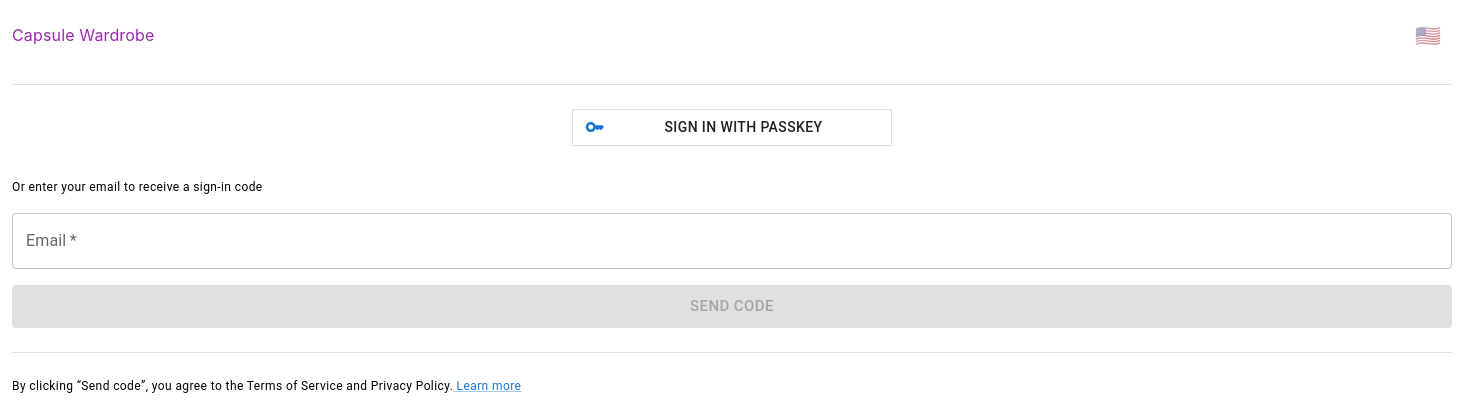
Test: SignInScreen › google script load failure keeps email flow usable
Expected: the button "Send code" is disabled, [12,285,1452,328]
Type "person@example.com" into the field labelled "Email *" at (732, 241), box [12,213,1452,269]
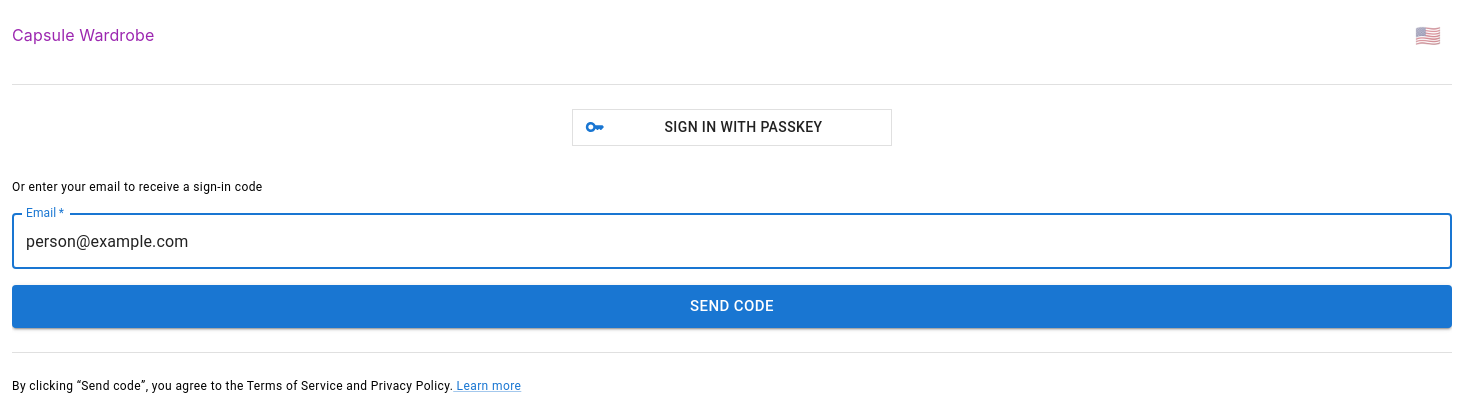
Expected: the button "Send code" is enabled, [12,285,1452,328]
